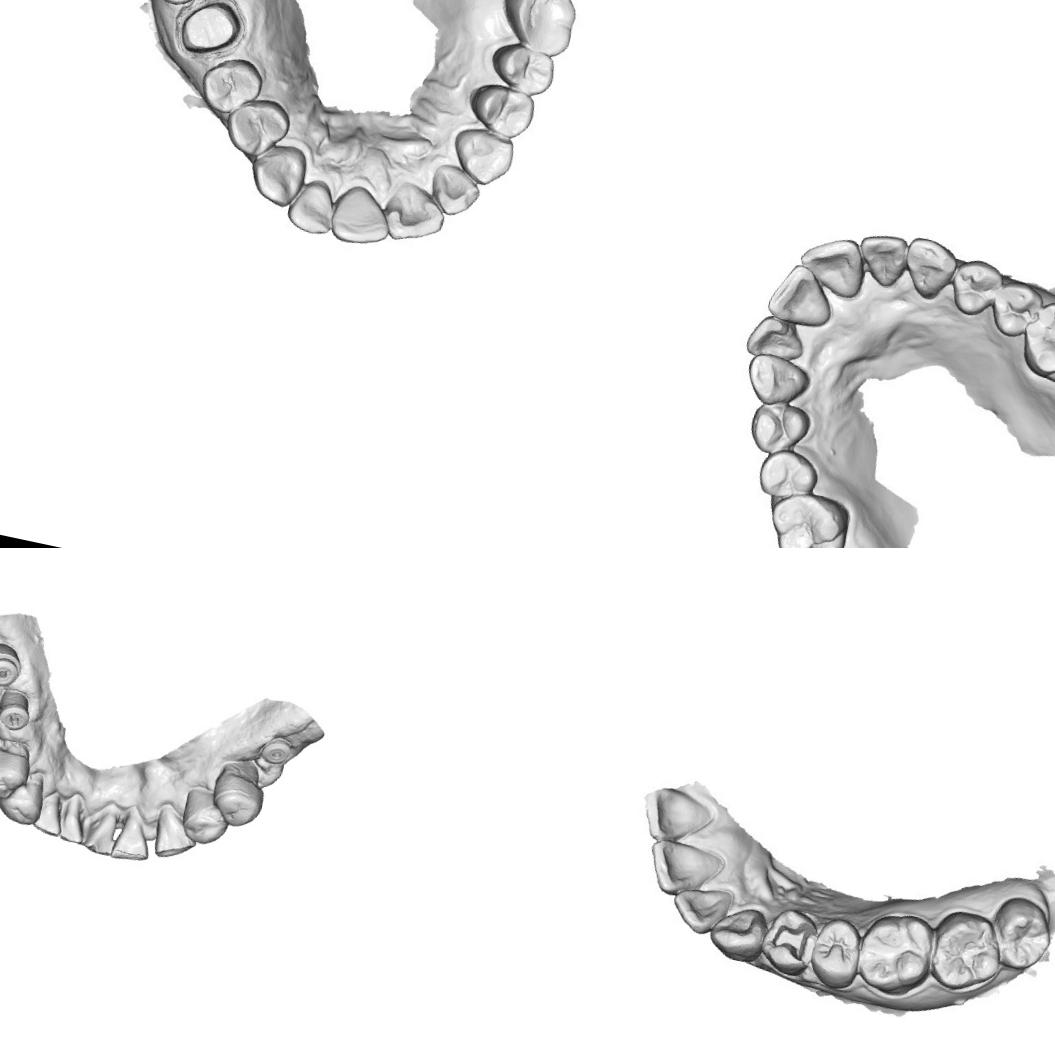canine: (740, 348, 815, 412), (247, 138, 312, 210), (897, 232, 961, 305), (448, 124, 518, 189), (710, 900, 773, 965), (149, 802, 203, 864), (0, 766, 48, 828)
crown: (173, 0, 243, 63)
implant: (257, 734, 294, 767)
implant_minus: (0, 687, 35, 734), (0, 639, 26, 691)
incisor: (793, 224, 874, 304), (762, 258, 842, 331), (640, 782, 722, 848), (322, 182, 396, 254), (645, 836, 723, 900), (384, 181, 451, 251), (849, 224, 914, 293), (671, 878, 734, 941), (426, 161, 487, 226), (744, 312, 813, 368), (282, 179, 338, 238), (108, 803, 158, 866), (81, 800, 122, 858), (53, 789, 92, 846), (30, 786, 70, 838)
inlay: (768, 912, 822, 969)
molar: (920, 902, 1016, 1001), (852, 903, 942, 1004), (980, 888, 1055, 978), (758, 484, 855, 548), (491, 0, 584, 61), (1016, 296, 1055, 389)
premolar: (222, 88, 296, 164), (206, 752, 272, 831), (196, 50, 266, 118), (743, 396, 816, 460), (752, 444, 822, 510), (981, 274, 1047, 342), (488, 38, 562, 98), (470, 81, 536, 143), (807, 918, 864, 986), (176, 784, 235, 849), (946, 255, 1003, 322), (0, 732, 35, 803)
